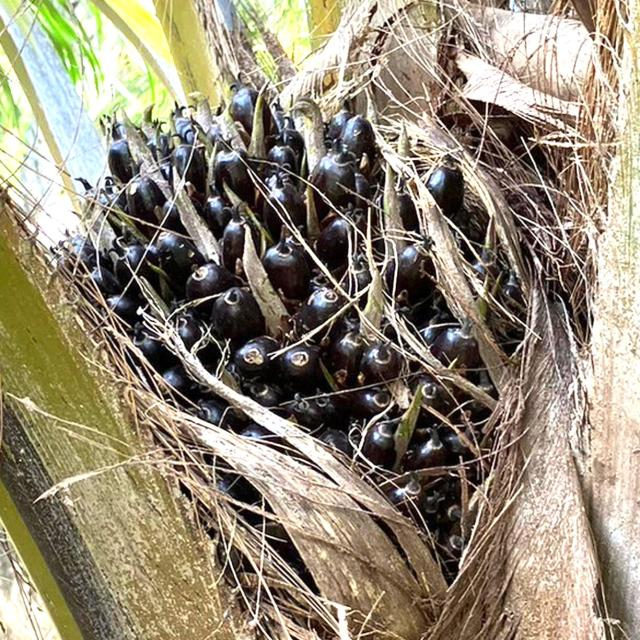unripe: (68, 85, 477, 567)
